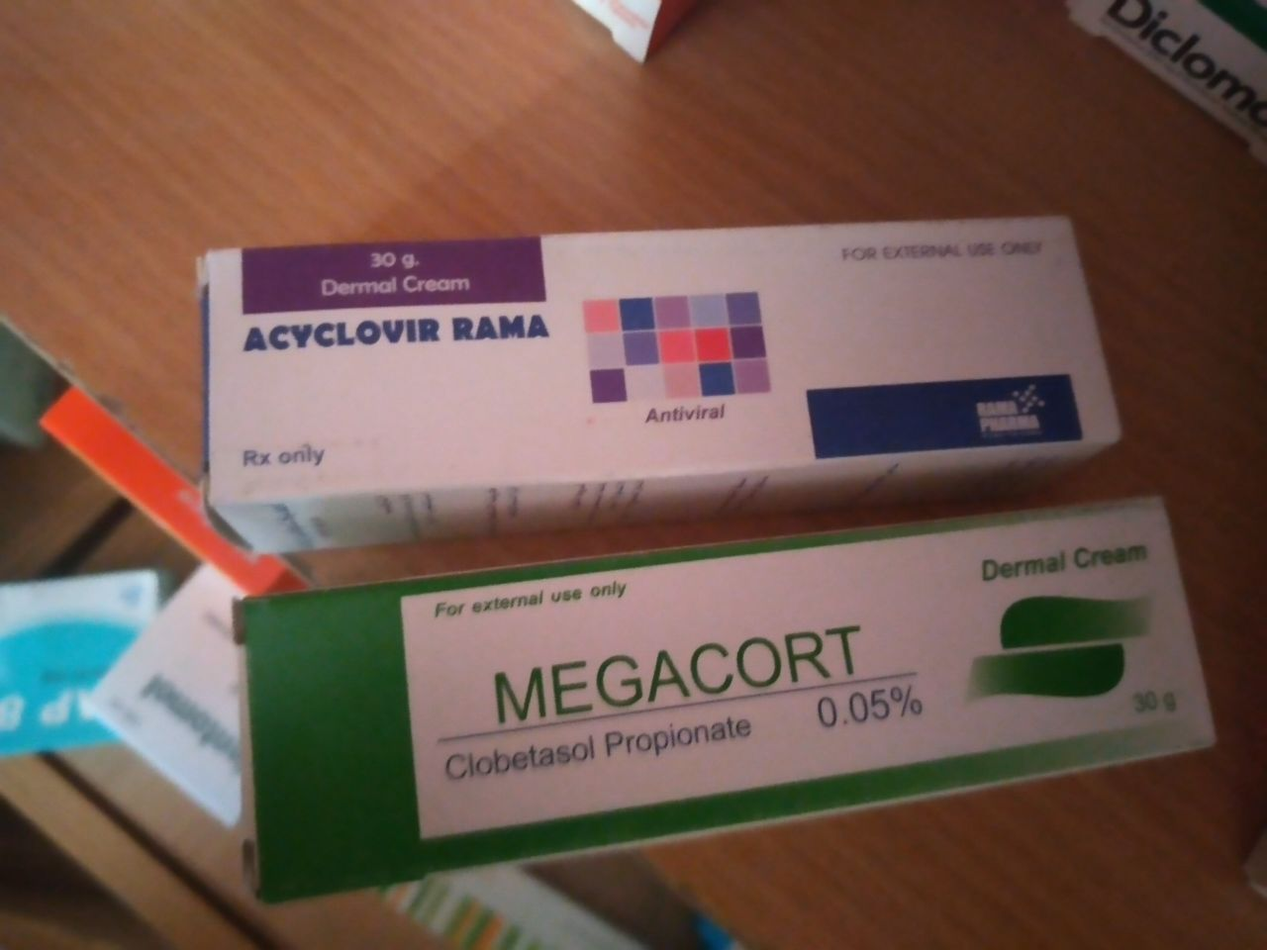Medicine: (203, 502, 1255, 898), (176, 210, 1133, 559)
